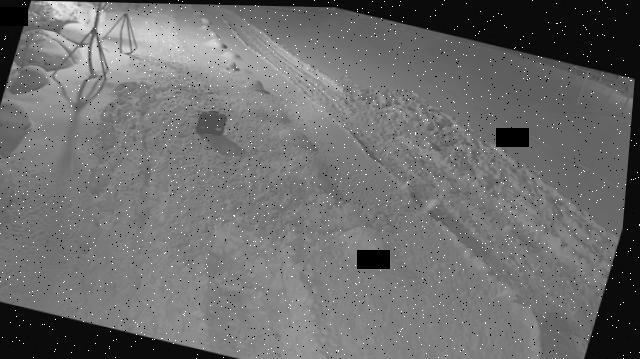bag: (195, 105, 232, 139)
